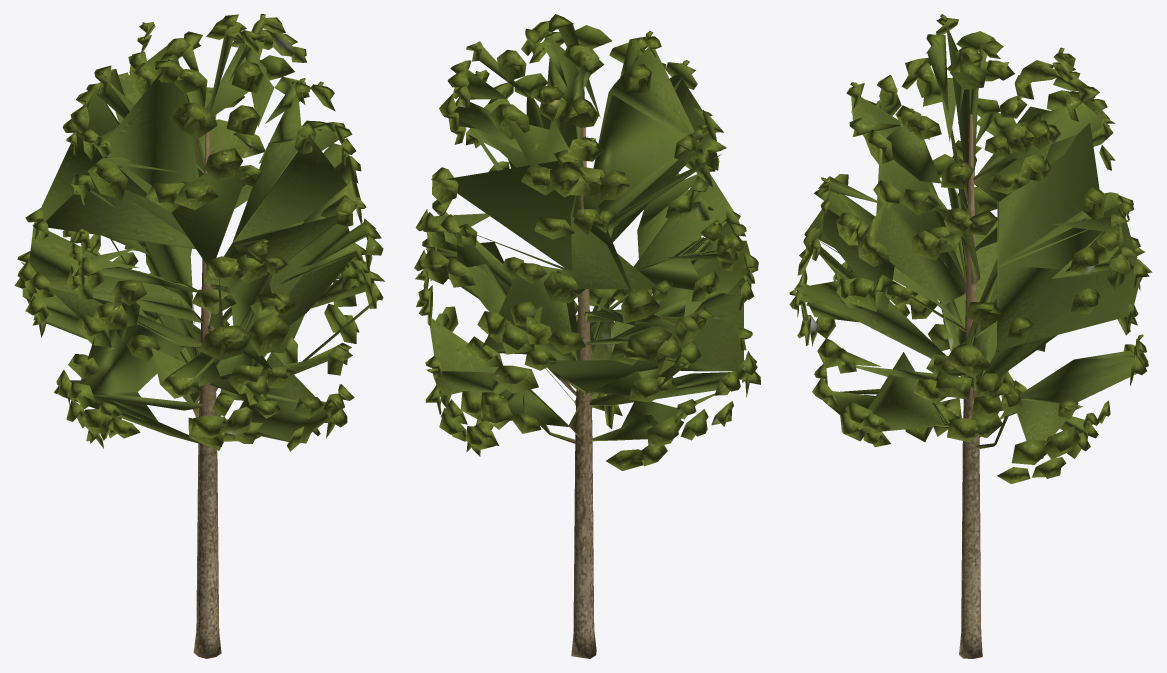
The model's file is street_tree_b.glb.
3 views of the same model, side by side, from view 1: azimuth 30°, elevation 25°; view 2: azimuth 150°, elevation 25°; view 3: azimuth 270°, elevation 25° (orthographic).
Parts seen in each view (by area): view 1: TesanaFacingY180; view 2: TesanaFacingY180; view 3: TesanaFacingY180.
Part boxes in pixels (left/top/right/bottom): TesanaFacingY180: left=14, top=14, right=384, bottom=658; TesanaFacingY180: left=414, top=14, right=760, bottom=658; TesanaFacingY180: left=789, top=14, right=1152, bottom=658.
Size of the model in its own units: 6.37 by 12 by 6.38.
1 material, 1 textured.
